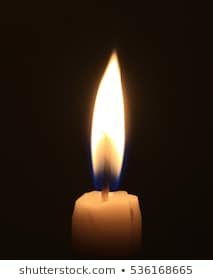Fire: (88, 50, 130, 182)
